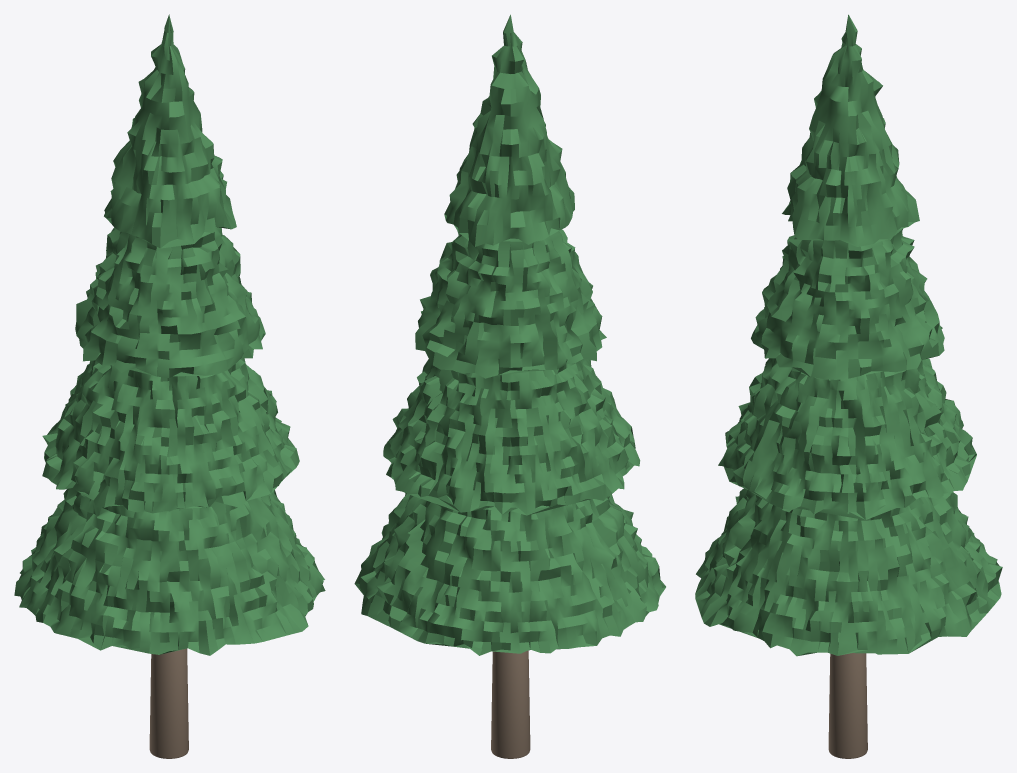
File: sugi.glb
3 views of the same model, side by side, from view 1: azimuth 30°, elevation 25°; view 2: azimuth 150°, elevation 25°; view 3: azimuth 270°, elevation 25° (orthographic).
Visible parts, largest first — view 1: sugi; view 2: sugi; view 3: sugi.
Part boxes in pixels (x1,y1,x2,y2): sugi: [14, 14, 325, 758]; sugi: [354, 14, 665, 758]; sugi: [695, 14, 1002, 758].
Bounding box in the file's own units: 3.43 × 9.06 × 3.43.
